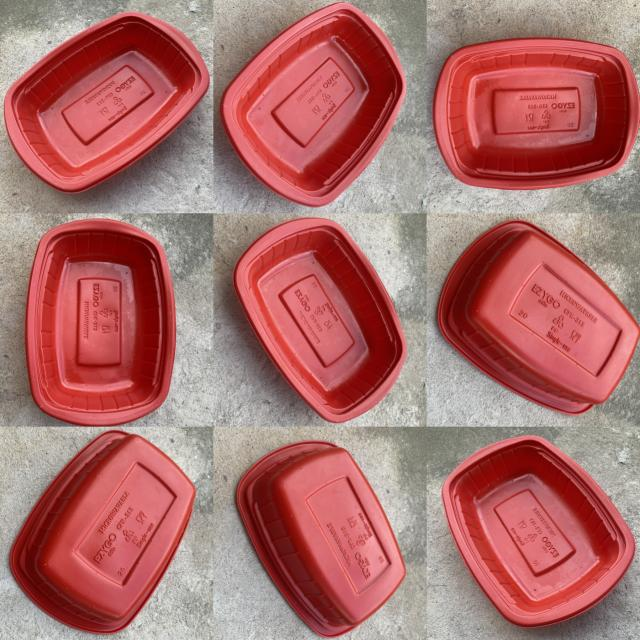Single-Use-Plastic: (438, 220, 640, 414), (220, 2, 406, 206), (10, 430, 195, 633), (4, 12, 210, 192), (442, 436, 635, 626), (234, 219, 406, 422), (238, 441, 405, 638), (434, 38, 640, 190), (26, 219, 175, 425)
